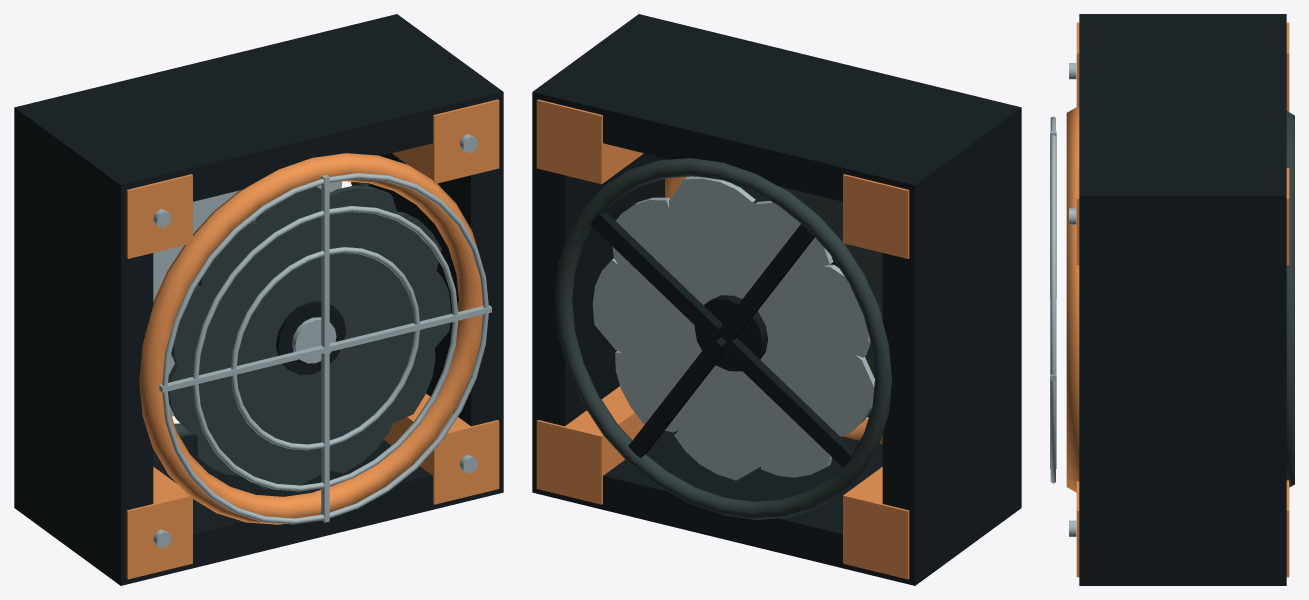
The model's file is fan-counter-200.glb.
3 renders of one model, left to right at view 1: azimuth 30°, elevation 25°; view 2: azimuth 150°, elevation 25°; view 3: azimuth 270°, elevation 25°, orthographic. The views are drawn at different scales.
Parts seen in each view (by area): view 1: Rubber and ABS, Anodized graphite, Industrial orange, Brushed aluminium (×2), fan-rotor; view 2: Rubber and ABS (×2), Brushed aluminium, Industrial orange, fan-counter-200, Anodized graphite, fan-rotor; view 3: Rubber and ABS, Industrial orange, fan-counter-200, Brushed aluminium.
Part boxes in pixels (left/top/right/bottom): Rubber and ABS: left=14, top=14, right=503, bottom=585; Anodized graphite: left=168, top=185, right=451, bottom=489; Industrial orange: left=126, top=99, right=499, bottom=579; Brushed aluminium (×2): left=153, top=134, right=491, bottom=548; fan-rotor: left=276, top=301, right=345, bottom=374; Rubber and ABS (×2): left=532, top=14, right=1021, bottom=585; Brushed aluminium: left=592, top=176, right=874, bottom=480; Industrial orange: left=536, top=99, right=909, bottom=579; fan-counter-200: left=555, top=158, right=891, bottom=519; Anodized graphite: left=693, top=176, right=882, bottom=417; fan-rotor: left=694, top=295, right=768, bottom=371; Rubber and ABS: left=1079, top=14, right=1286, bottom=585; Industrial orange: left=1066, top=22, right=1289, bottom=577; fan-counter-200: left=1286, top=111, right=1294, bottom=487; Brushed aluminium: left=1050, top=63, right=1076, bottom=536.
Size of the model in its own units: 1.66 by 1.66 by 0.9441.
